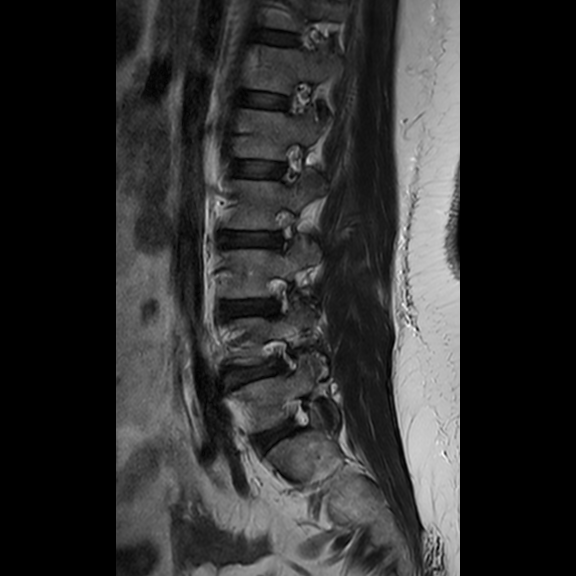RFS0: (258, 266, 297, 326), (265, 200, 301, 261), (272, 136, 308, 194)
